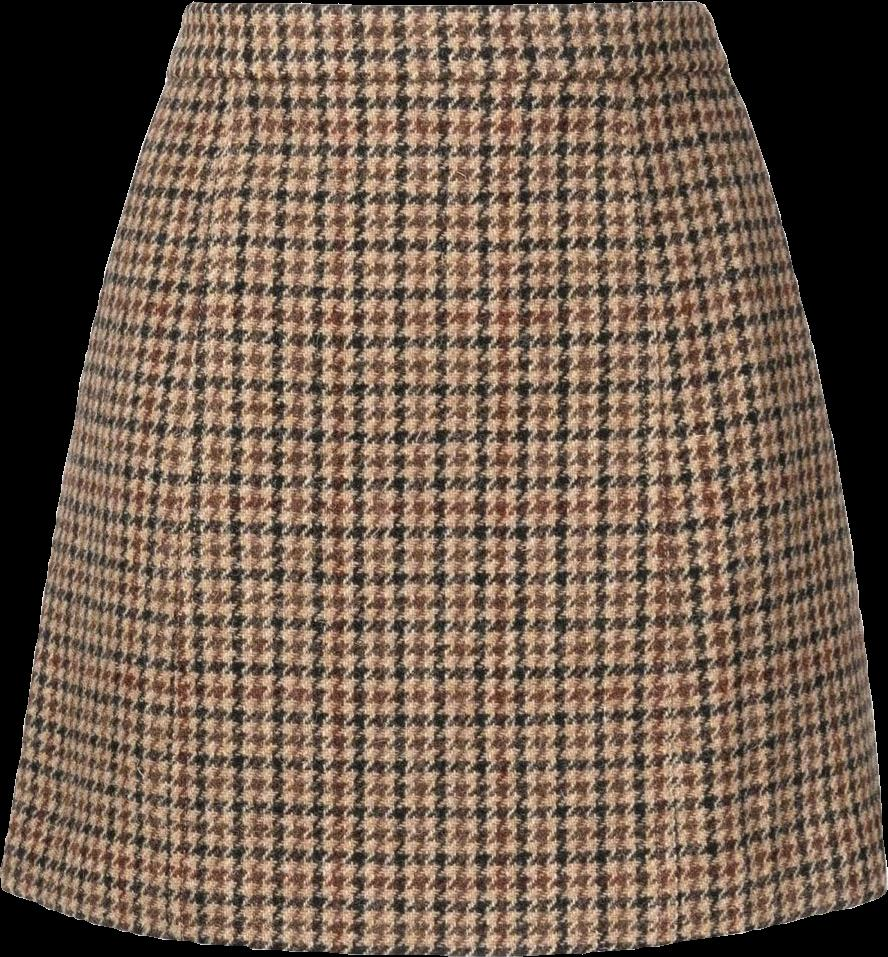Hemline: (0, 881, 887, 956)
Waistline: (188, 0, 707, 18)
